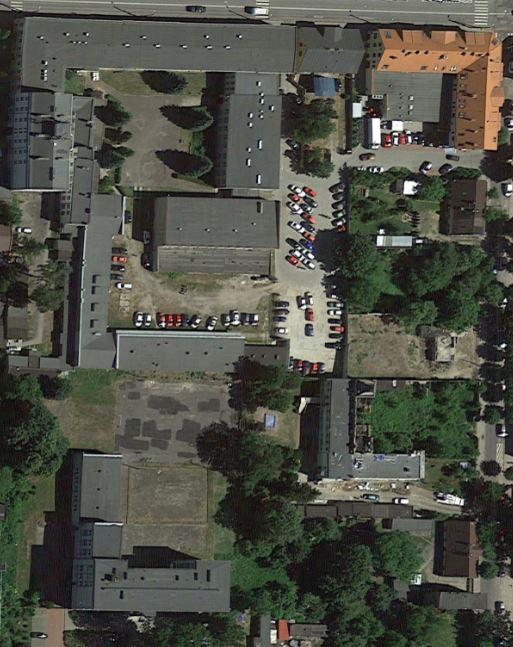block of flats: (4, 20, 368, 226), (84, 194, 296, 381), (62, 446, 238, 620), (364, 23, 502, 158), (317, 376, 430, 485), (151, 193, 284, 281)
family house: (436, 514, 485, 582), (442, 178, 491, 236)
garage: (288, 498, 442, 539), (242, 612, 349, 646), (430, 588, 490, 615)
